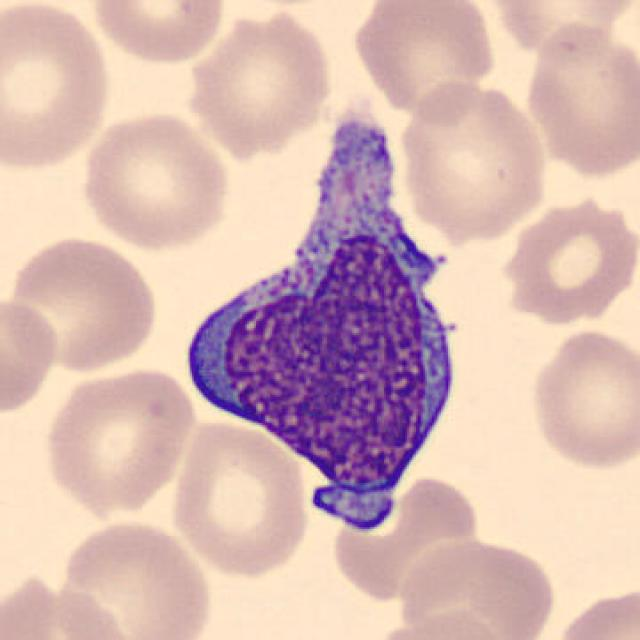Monocyte: (172, 113, 478, 568)
RBC: (395, 78, 551, 243), (39, 363, 196, 522), (183, 3, 336, 160), (167, 418, 313, 580), (76, 107, 233, 254), (3, 232, 162, 376), (494, 189, 640, 328), (53, 516, 215, 640), (0, 2, 116, 175), (521, 19, 638, 180), (346, 0, 499, 120), (395, 534, 560, 640), (524, 324, 638, 474), (478, 0, 638, 62), (87, 0, 231, 67), (0, 571, 133, 640), (0, 294, 64, 420), (549, 582, 640, 640), (363, 608, 517, 640)
